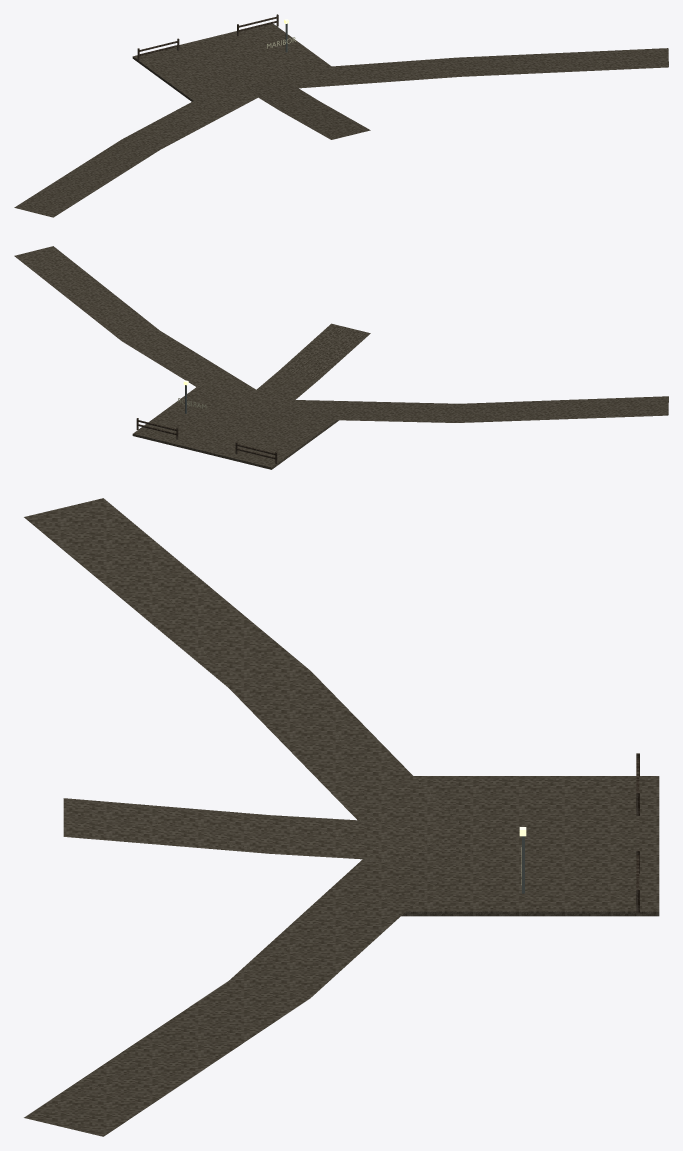
Rendered from PH03_SharedEnd_Overlook.fbx.
The picture shows the model from 3 angles, top to bottom: view 1: azimuth 30°, elevation 25°; view 2: azimuth 150°, elevation 25°; view 3: azimuth 270°, elevation 25°; orthographic projection. The views are drawn at different scales.
Visible parts, largest first — view 1: C_SharedMerge, Shared_CityOverlook, A_SharedMerge, B_SharedMerge; view 2: C_SharedMerge, A_SharedMerge, Shared_CityOverlook, B_SharedMerge; view 3: A_SharedMerge, Shared_CityOverlook, C_SharedMerge, B_SharedMerge.
Part boxes in pixels (x1,y1,x2,y2): C_SharedMerge: (257,48,668,88); Shared_CityOverlook: (132,23,331,101); A_SharedMerge: (14,75,258,217); B_SharedMerge: (245,79,370,139); C_SharedMerge: (14,246,258,414); A_SharedMerge: (257,396,668,422); Shared_CityOverlook: (132,387,338,469); B_SharedMerge: (245,323,370,409); A_SharedMerge: (24,498,471,843); Shared_CityOverlook: (401,776,659,916); C_SharedMerge: (24,844,471,1136); B_SharedMerge: (63,798,429,861).
Bounding box in the file's own units: 6596 × 332 × 2774.
5 materials, 2 textured.
